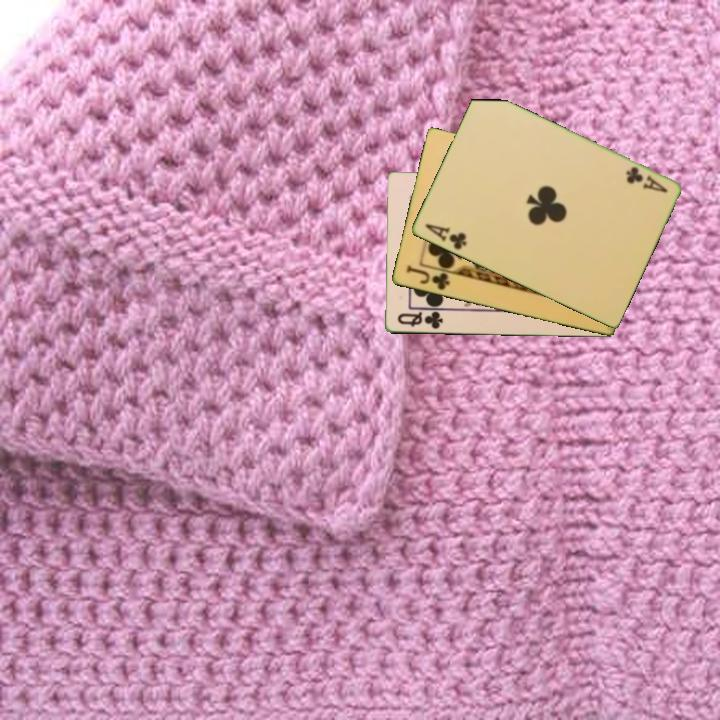Ac: (421, 220, 469, 253), (622, 163, 670, 196)
Jc: (402, 261, 452, 293)
Qc: (394, 308, 445, 332)
